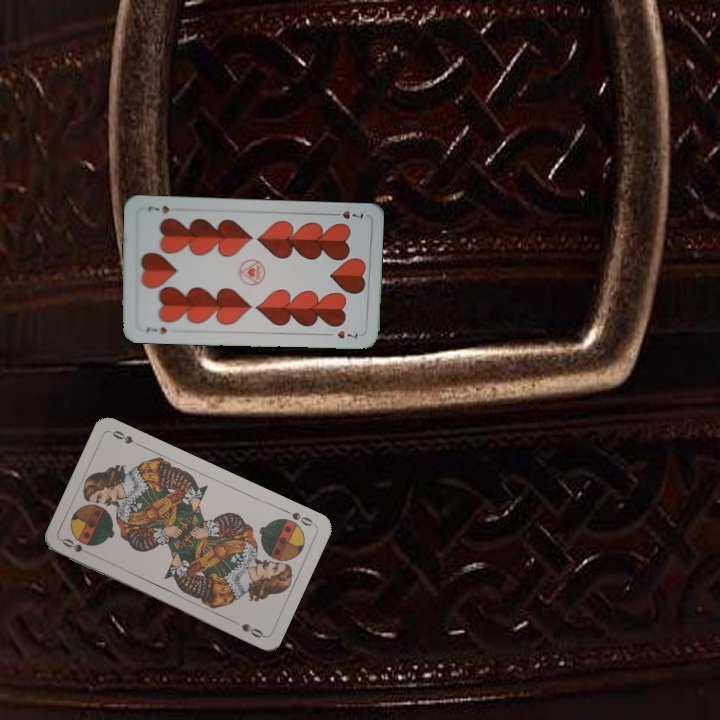H7: (327, 206, 366, 222), (142, 323, 169, 337)
SO: (58, 534, 96, 559), (279, 505, 317, 529)
